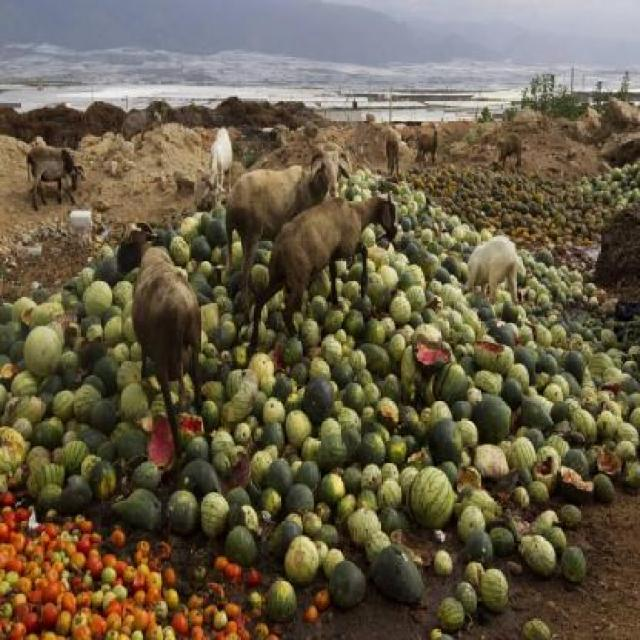garbage: (126, 384, 640, 640), (2, 219, 121, 640), (317, 288, 640, 384), (409, 153, 640, 239), (369, 232, 470, 290), (527, 239, 640, 285), (158, 206, 223, 262), (345, 168, 382, 197)
